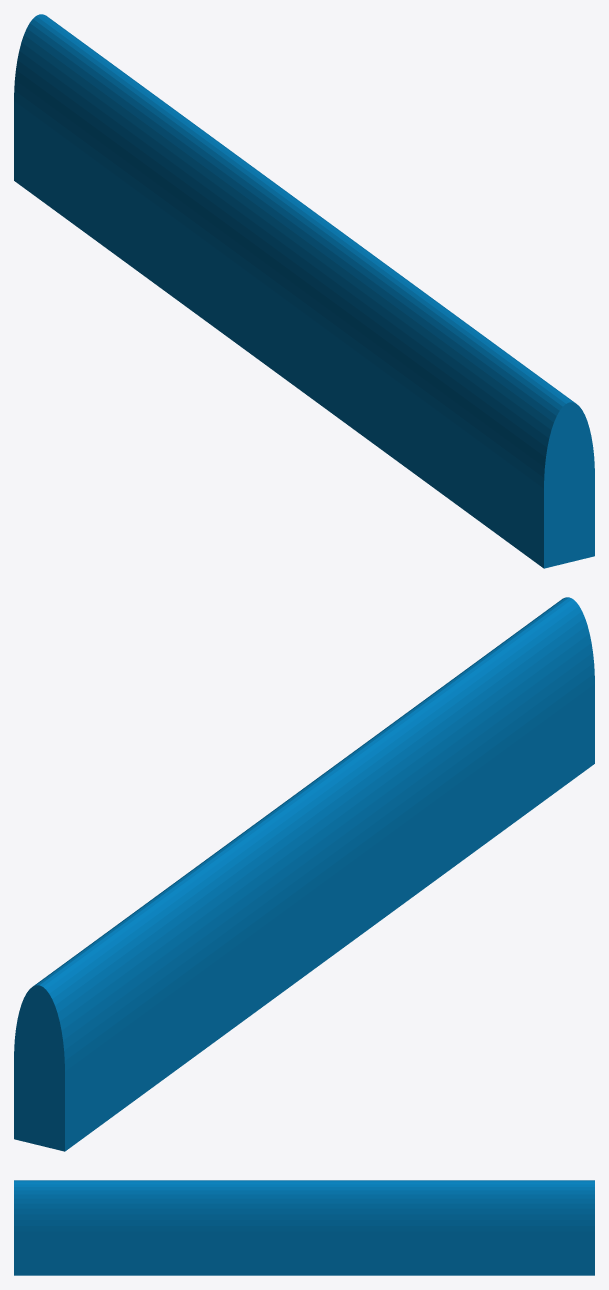
Rendered from muret.obj.
The picture shows the model from 3 angles, top to bottom: view 1: azimuth 30°, elevation 25°; view 2: azimuth 150°, elevation 25°; view 3: azimuth 270°, elevation 25°; orthographic projection. The views are drawn at different scales.
Visible parts, largest first — view 1: Mesh_muretArrondit; view 2: Mesh_muretArrondit; view 3: Mesh_muretArrondit.
Boxes of the visible parts, x1,y1,x2,y2 form: Mesh_muretArrondit: (14,14,594,568); Mesh_muretArrondit: (14,597,594,1151); Mesh_muretArrondit: (14,1180,594,1275).
Size of the model in its own units: 1 by 3 by 18.
1 material, 1 textured.
